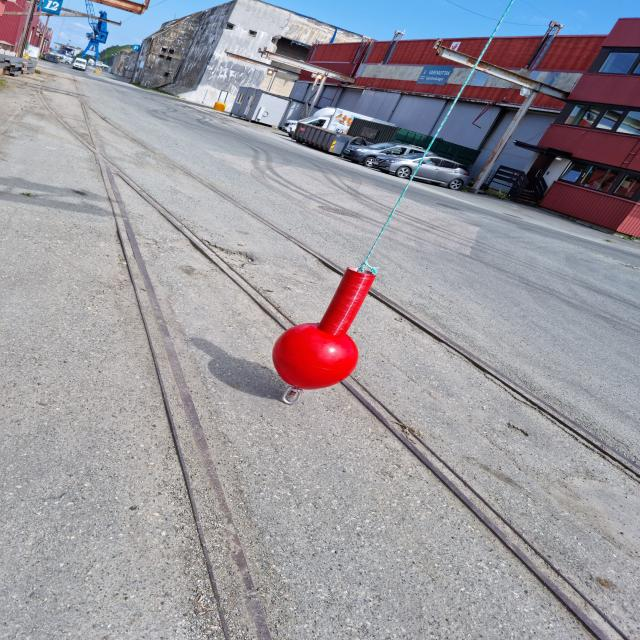red: (273, 270, 376, 388)
